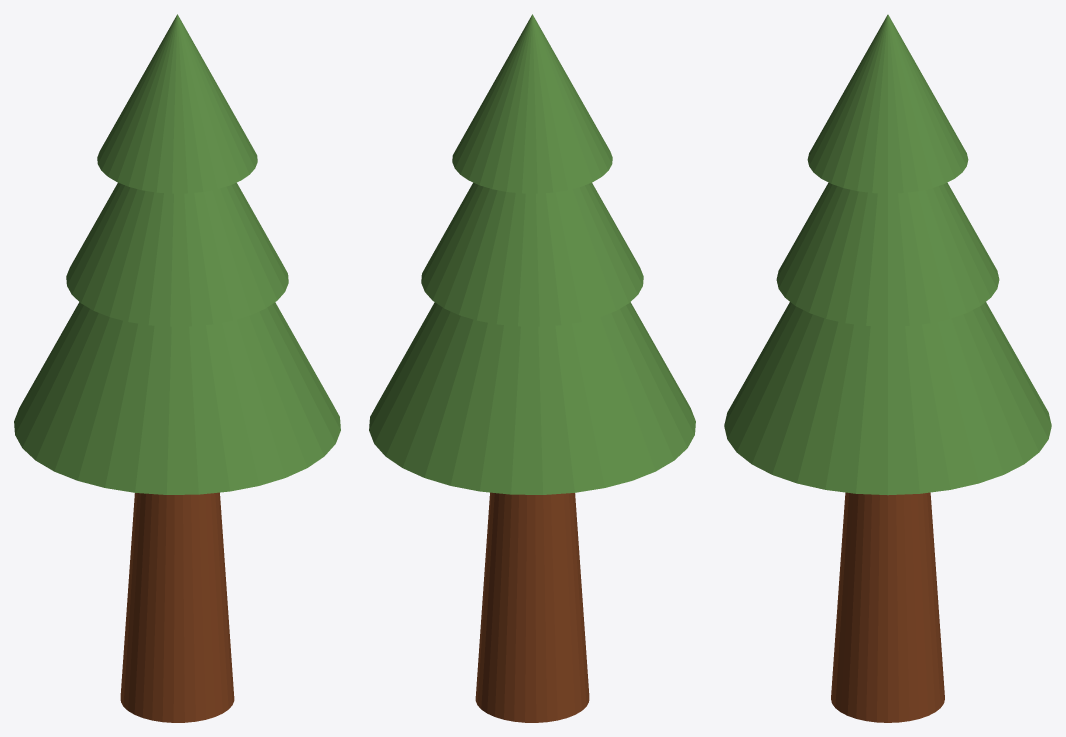
Rendered from decorLarge-snow-55.glb.
The picture shows the model from 3 angles, left to right: view 1: azimuth 30°, elevation 25°; view 2: azimuth 150°, elevation 25°; view 3: azimuth 270°, elevation 25°; orthographic projection.
Visible parts, largest first — view 1: piece; view 2: piece; view 3: piece.
Boxes of the visible parts, bbox=[...] form: piece: bbox=[14, 14, 340, 722]; piece: bbox=[369, 14, 695, 722]; piece: bbox=[724, 14, 1051, 722].
Bounding box in the file's own units: 5.74 × 13.24 × 5.74.
